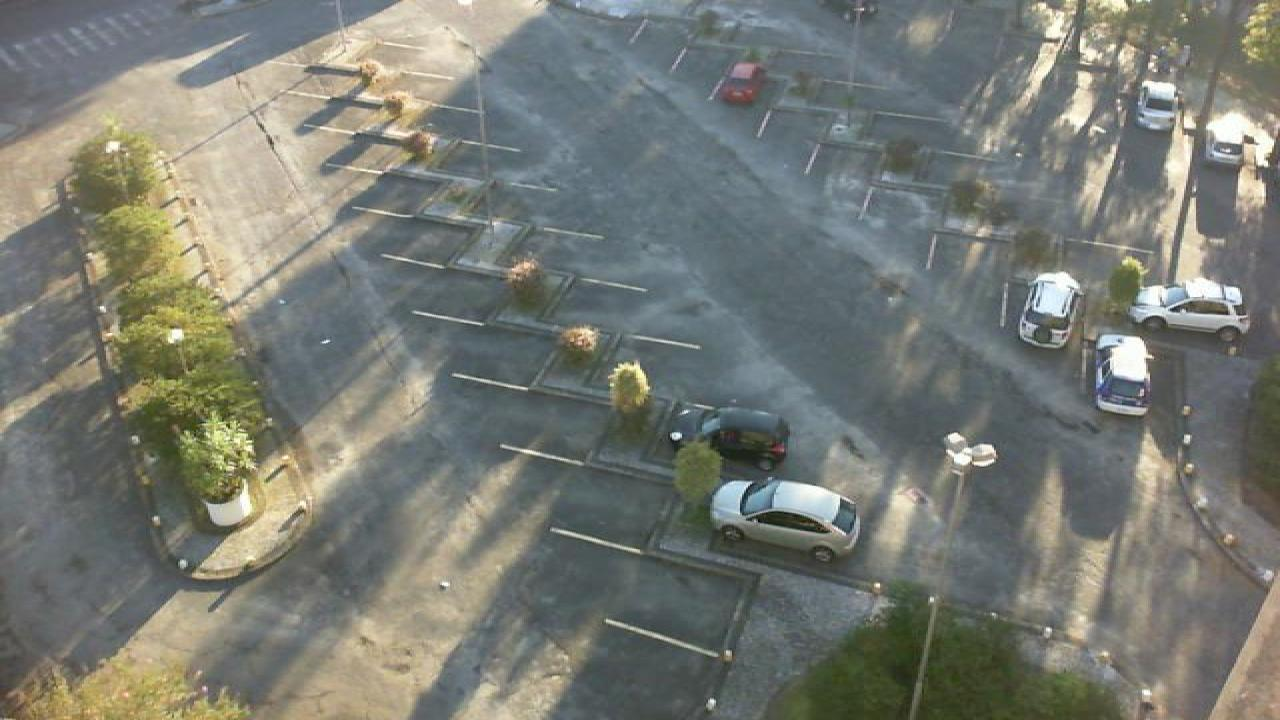Car: (708, 477, 864, 564), (666, 401, 792, 474), (1128, 278, 1250, 342), (1014, 269, 1084, 350), (1094, 333, 1156, 416), (1202, 110, 1260, 166), (712, 61, 766, 107), (1132, 81, 1180, 131)
